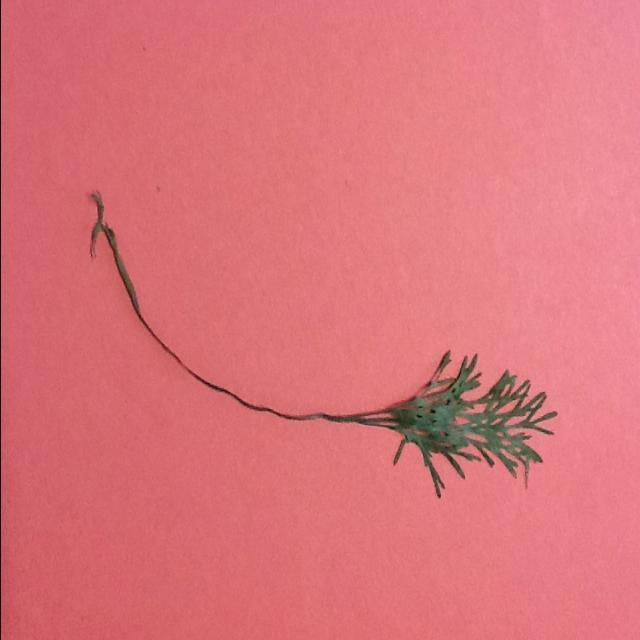foliage: (82, 187, 560, 498)
